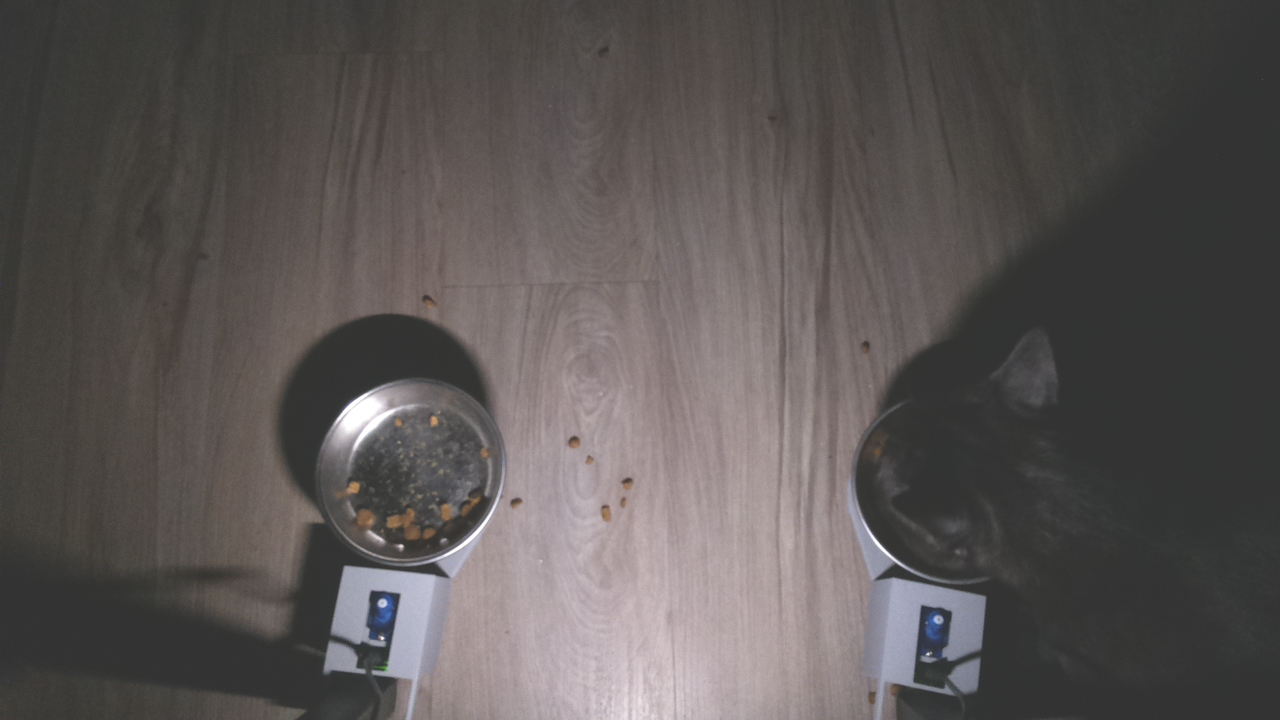open_bowl: (307, 370, 512, 568)
saki_eating: (842, 322, 1093, 596)
